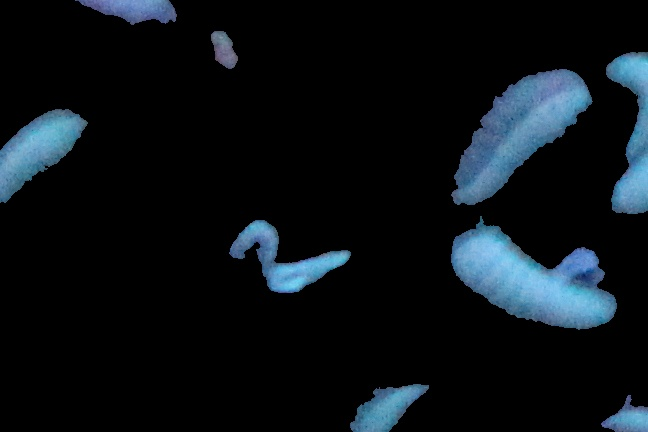larvae: (447, 226, 614, 334), (457, 78, 589, 204), (1, 107, 88, 218), (603, 48, 648, 163)
